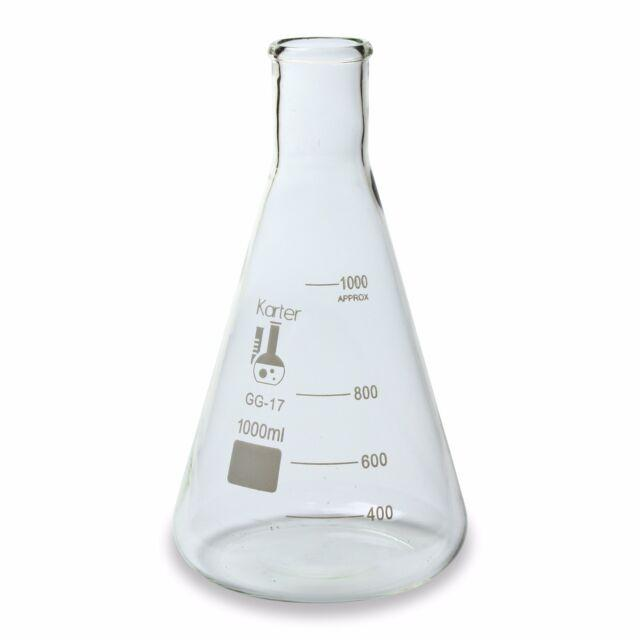Titrarion: (150, 27, 476, 597)
